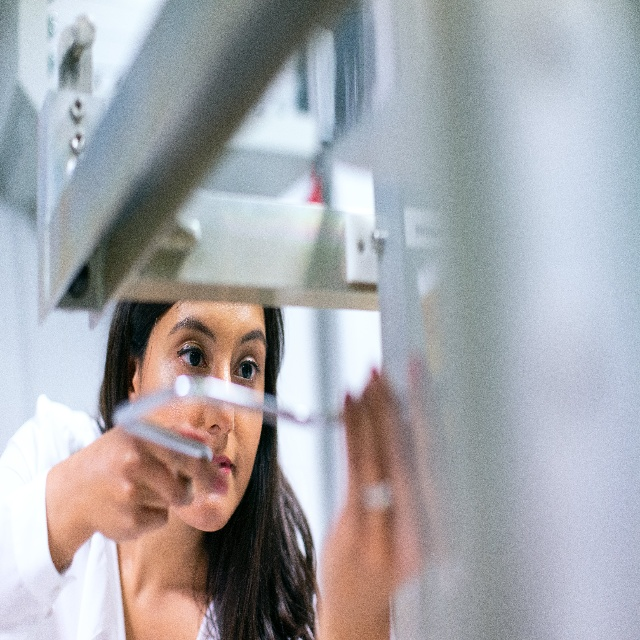Sin_guantes: (341, 364, 439, 566), (80, 423, 212, 534)
